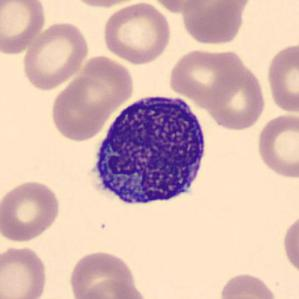Monocyte: (83, 88, 213, 215)
RBC: (20, 19, 90, 92), (167, 45, 245, 107), (204, 59, 268, 132), (100, 1, 173, 65), (49, 74, 112, 143), (0, 178, 63, 244), (73, 54, 135, 114), (67, 247, 137, 299), (254, 110, 298, 180), (179, 0, 245, 46), (0, 244, 50, 299), (0, 0, 48, 56), (264, 41, 298, 115), (218, 271, 279, 299), (83, 278, 149, 299), (281, 210, 299, 278), (149, 0, 213, 15), (64, 0, 150, 9)
